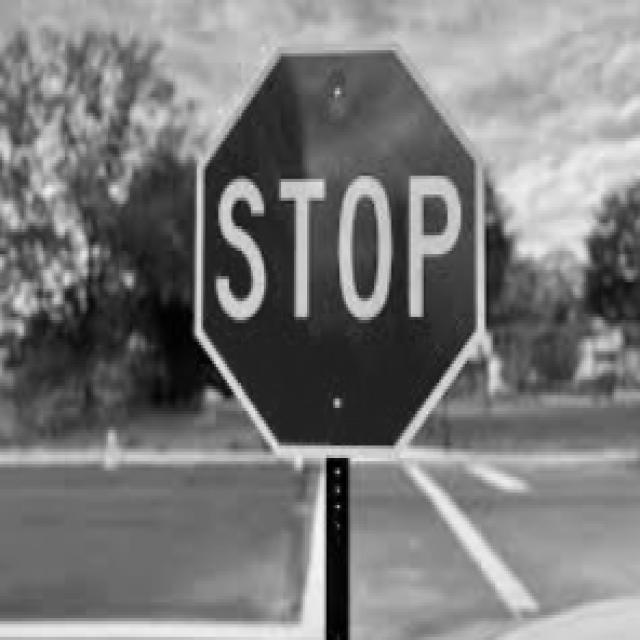Stop-signs: (196, 42, 485, 460)
